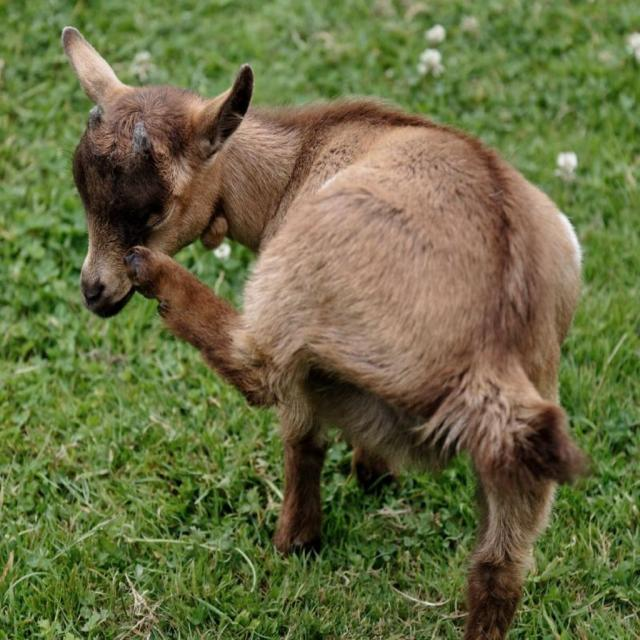Goat: (56, 26, 592, 640)
